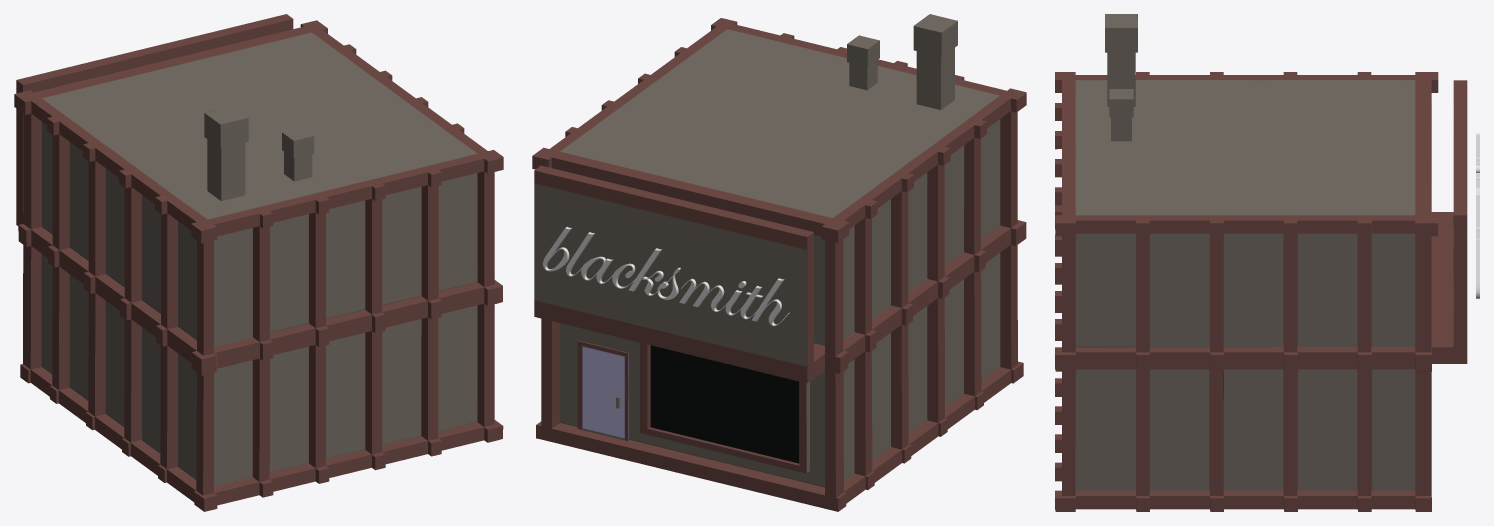
3 renders of one model, left to right at view 1: azimuth 30°, elevation 25°; view 2: azimuth 150°, elevation 25°; view 3: azimuth 270°, elevation 25°, orthographic. The views are drawn at different scales.
Parts seen in each view (by area): view 1: Cube; view 2: Cube, sdf; view 3: Cube, sdf.
Part boxes in pixels (bbox=[...]): Cube: bbox=[14, 14, 503, 511]; Cube: bbox=[532, 14, 1026, 511]; sdf: bbox=[543, 227, 789, 326]; Cube: bbox=[1055, 14, 1467, 511]; sdf: bbox=[1476, 133, 1479, 298].
Bounding box in the file's own units: 5266 × 5980 × 6244.
2 materials, 1 textured.
